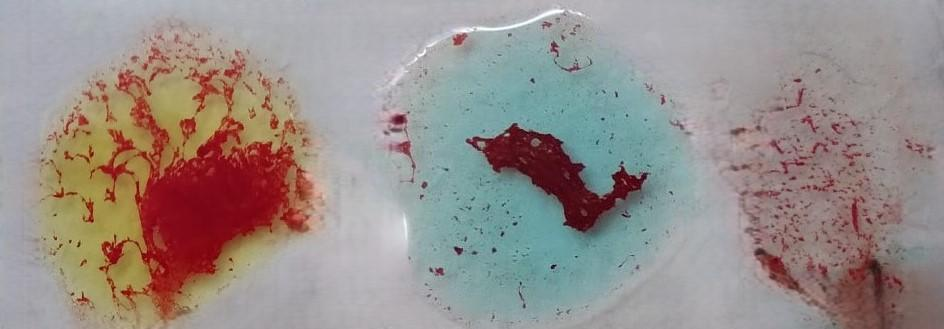A: (394, 27, 677, 313)
B: (36, 33, 299, 329)
D: (741, 84, 917, 329)
